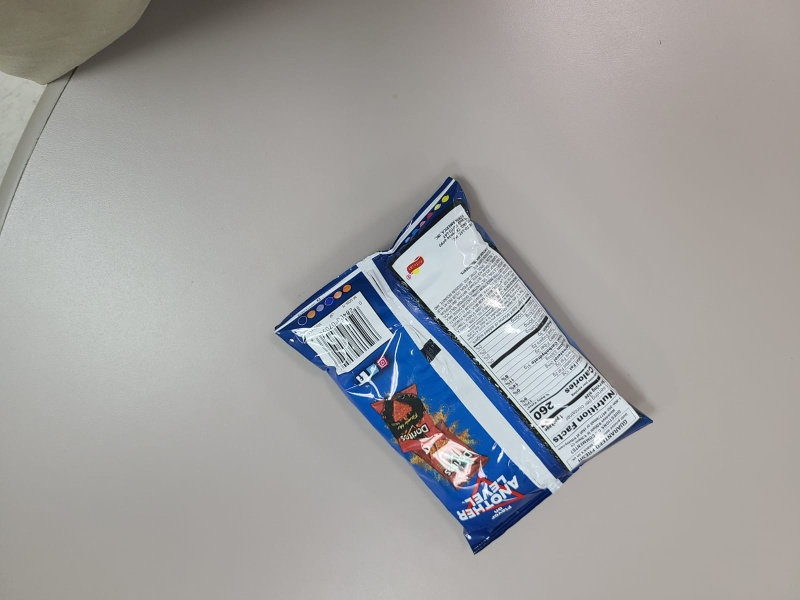doritos: (272, 171, 654, 556)
